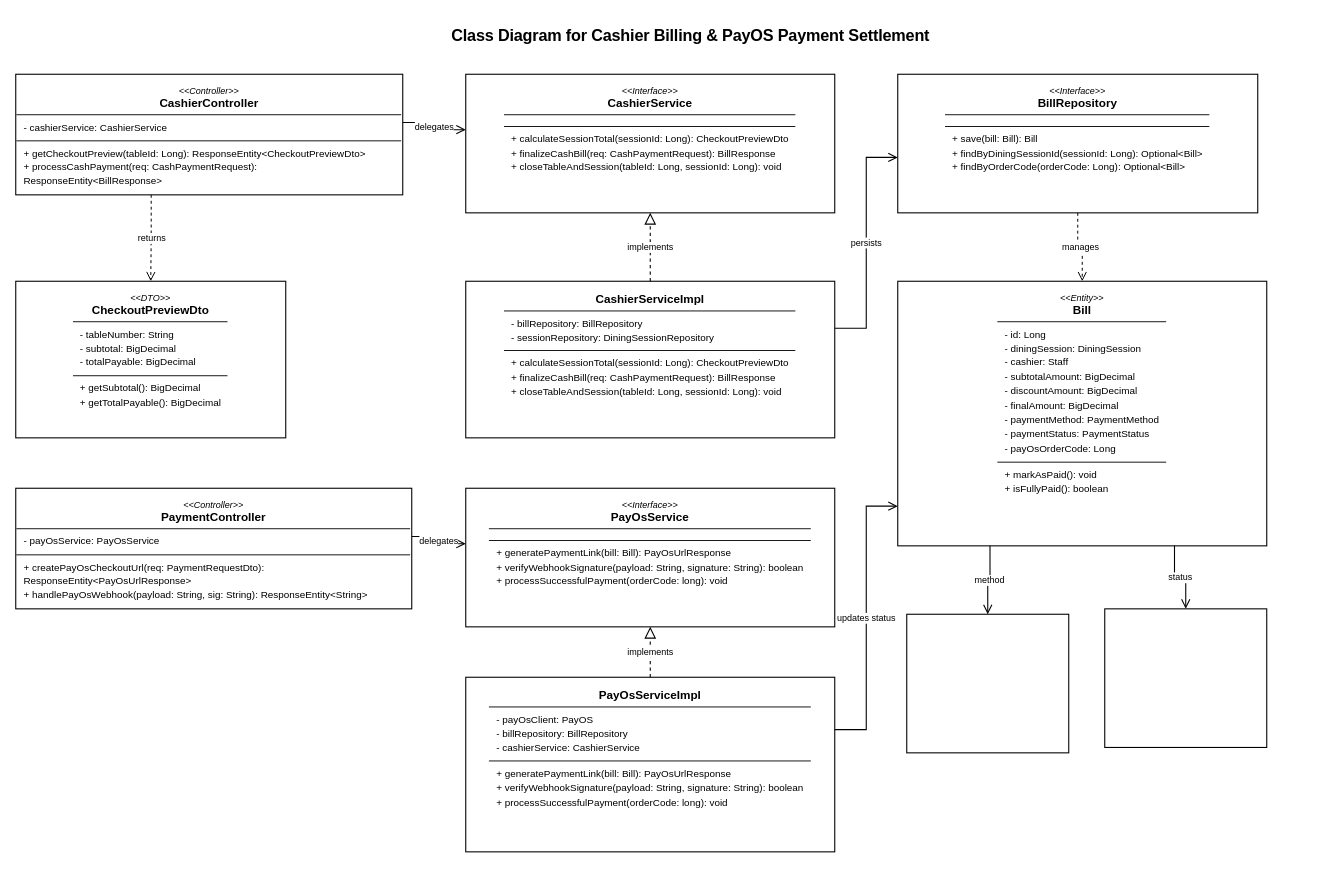
The diagram is 1337 pixels wide and 869 high, and some of its shapes have lost their labels. Each missing label, with the box of its shape:
<<Enumeration>> PaymentMethod CASH PAYOS_QR BANK_TRANSFER: (906, 613, 1069, 753)
<<Enumeration>> PaymentStatus PENDING PAID REFUNDED: (1104, 608, 1267, 748)
